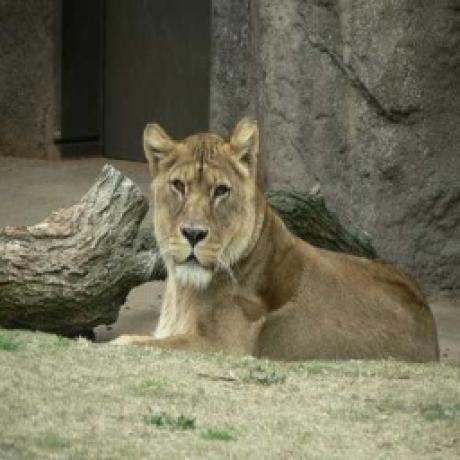Lion: (107, 108, 443, 365)
